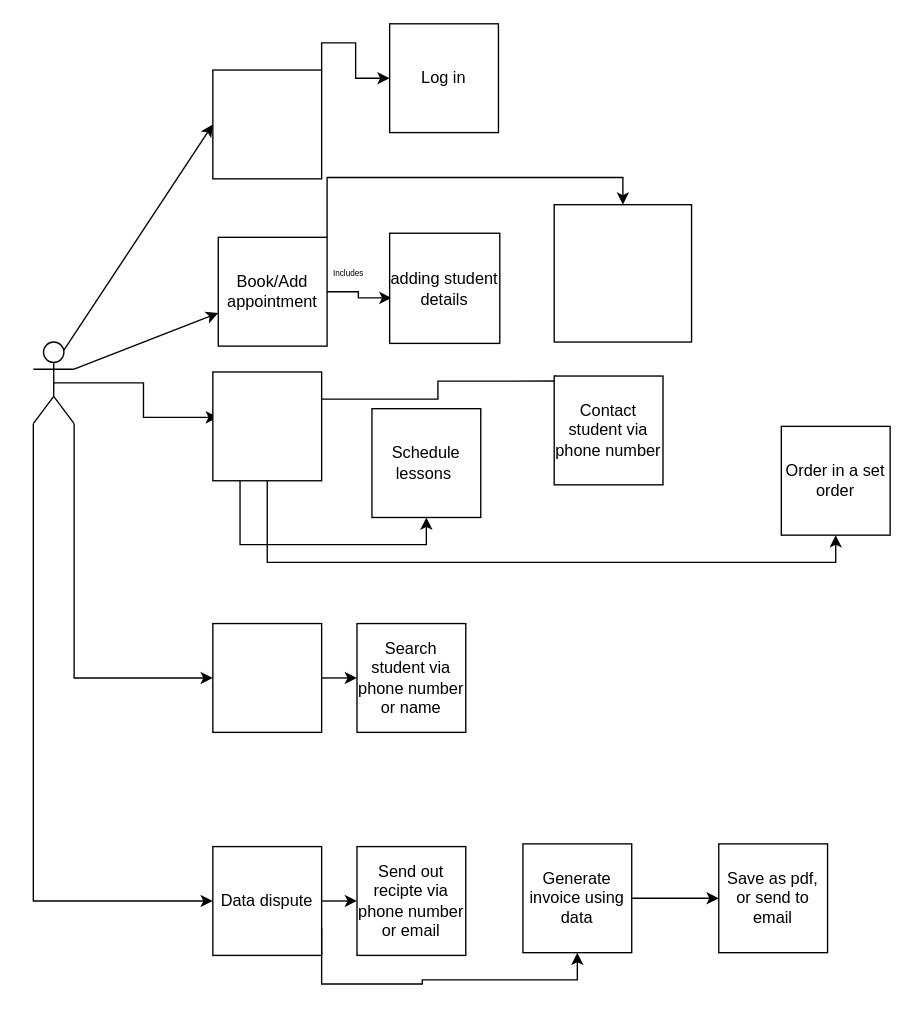
The diagram is 914 pixels wide and 1019 high, and some of its shapes have lost their labels. The shapes that lost their labels are listed below. From the top down, each one's centre as x and y in pixels, then its label:
(x=266, y=124): Register yourself
(x=622, y=272): Add tests, works the same way as adding an appointment but with higher expenses
(x=53, y=382): Actor
(x=266, y=426): View schedule
(x=266, y=677): Search
